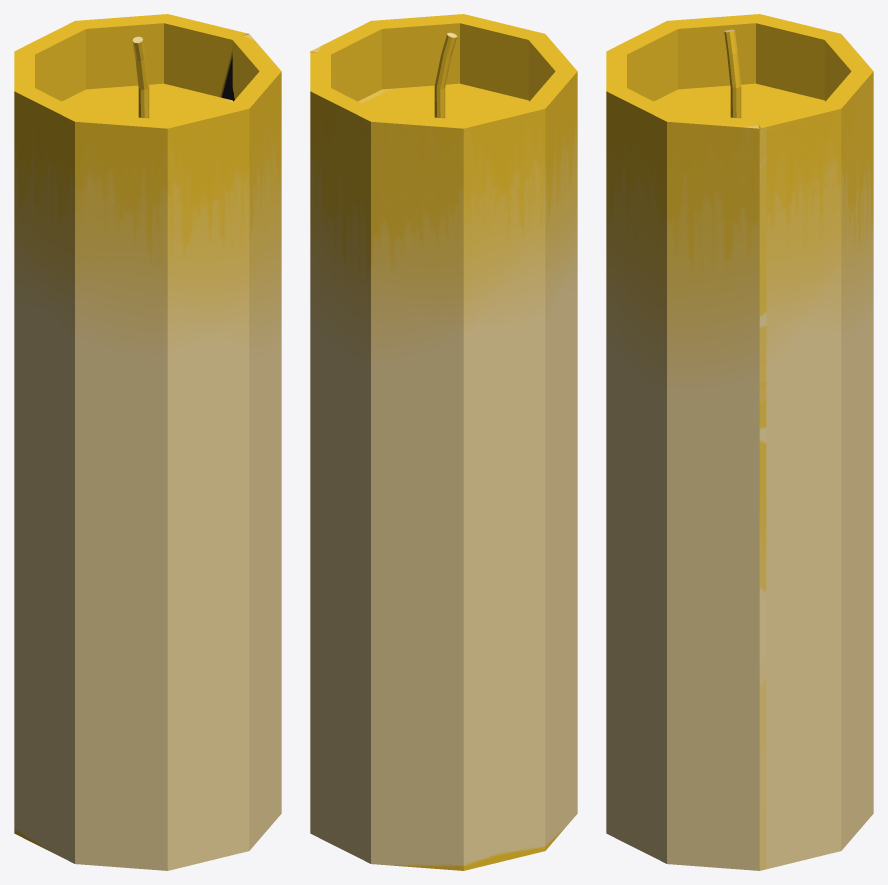
File: Candle1_Model.fbx
The picture shows the model from 3 angles, left to right: view 1: azimuth 30°, elevation 25°; view 2: azimuth 150°, elevation 25°; view 3: azimuth 270°, elevation 25°; orthographic projection.
Visible parts, largest first — view 1: Candle_Main; view 2: Candle_Main; view 3: Candle_Main.
Part boxes in pixels (box(x1,y1,x2,y2)): Candle_Main: box(14, 14, 281, 870); Candle_Main: box(310, 14, 577, 870); Candle_Main: box(606, 14, 873, 870).
Size of the model in its own units: 5.43 by 17.2 by 5.35.
